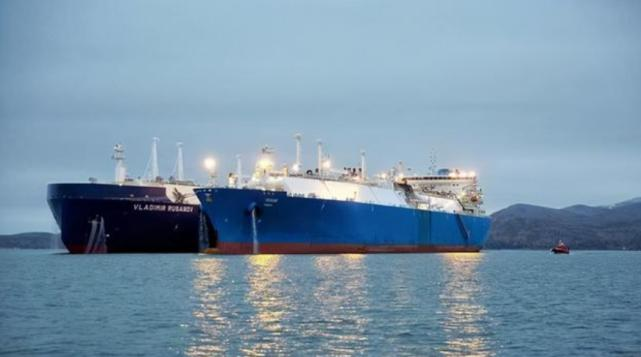Cargoship: (184, 152, 496, 256), (44, 141, 236, 250)
